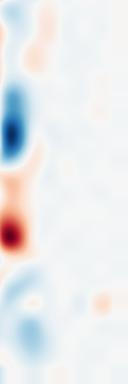filament: (0, 173, 39, 257)
